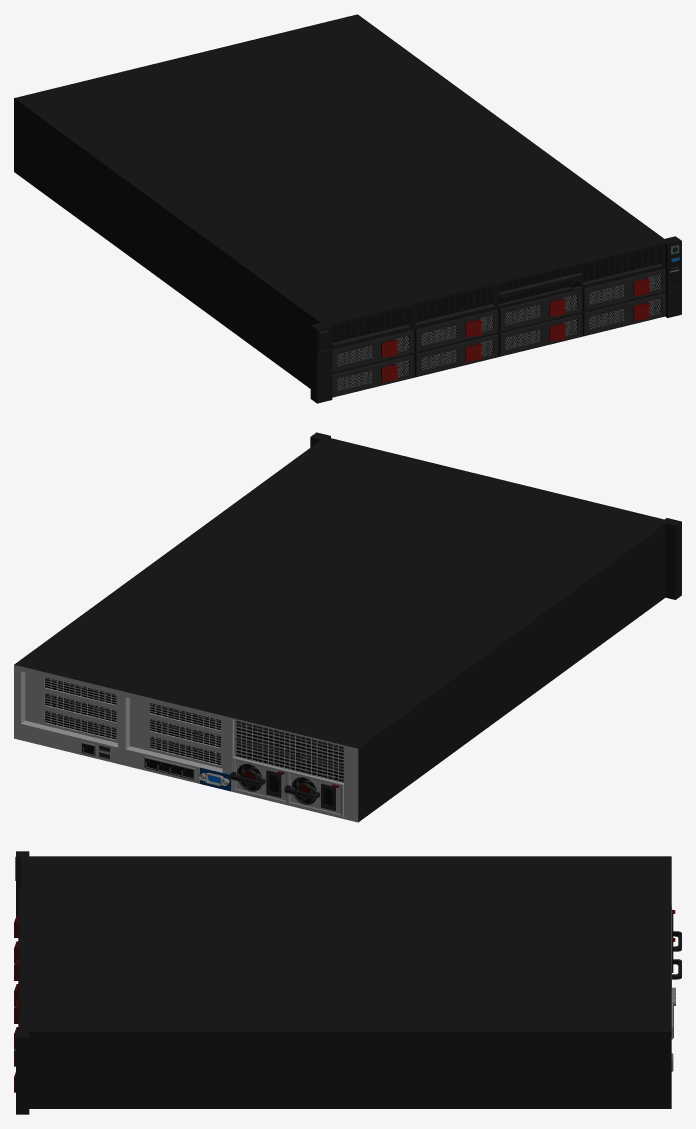
Rendered from DL380_G10Plus.fbx.
3 renders of one model, top to bottom at view 1: azimuth 30°, elevation 25°; view 2: azimuth 150°, elevation 25°; view 3: azimuth 270°, elevation 25°, orthographic. The views are drawn at different scales.
Parts seen in each view (by area): view 1: HPE_DL380_G10+; view 2: HPE_DL380_G10+; view 3: HPE_DL380_G10+.
Boxes of the visible parts, x1=… form: HPE_DL380_G10+: x1=14, y1=14, x2=681, y2=403; HPE_DL380_G10+: x1=14, y1=432, x2=681, y2=822; HPE_DL380_G10+: x1=14, y1=851, x2=681, y2=1114.
Bounding box in the file's own units: 461 × 89 × 698.
21 materials, 3 textured.
